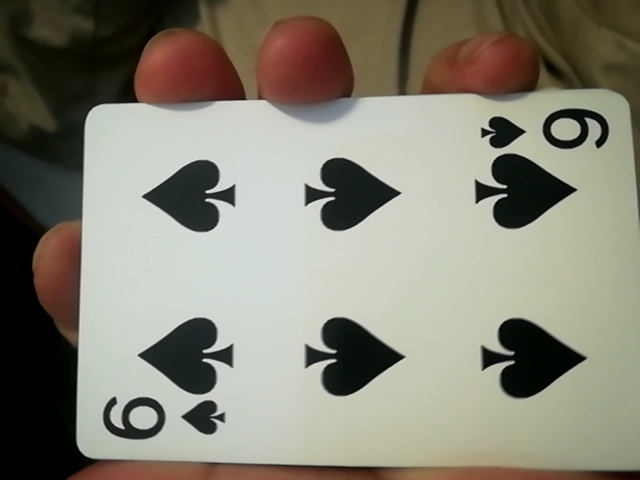ht 6: (52, 99, 637, 480)
